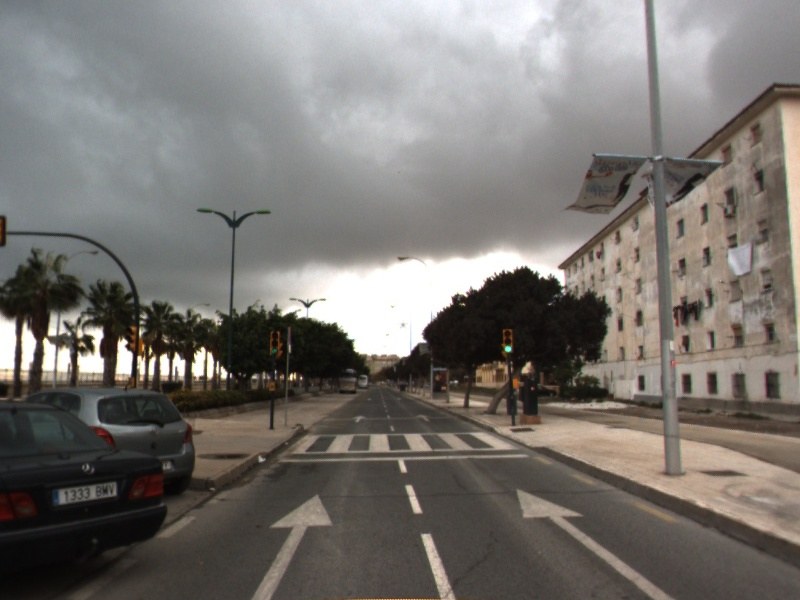STRAIGHT: (512, 485, 676, 600), (248, 490, 336, 600), (349, 413, 370, 424), (414, 412, 433, 423)
